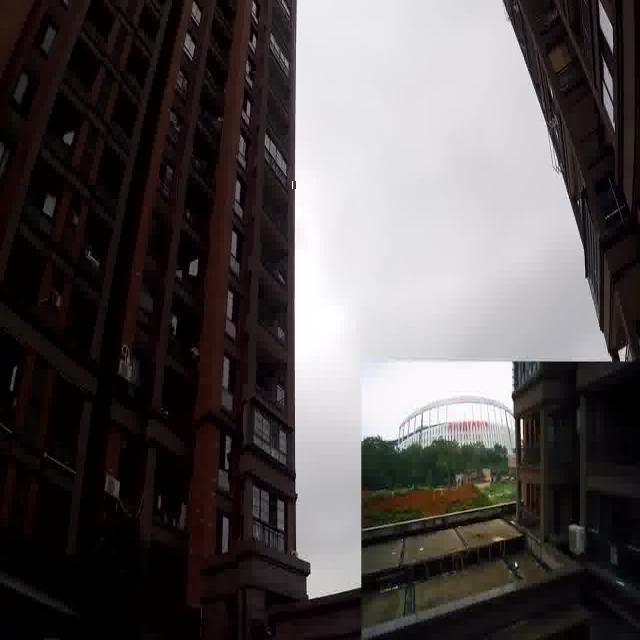drone: (292, 182, 296, 190)
